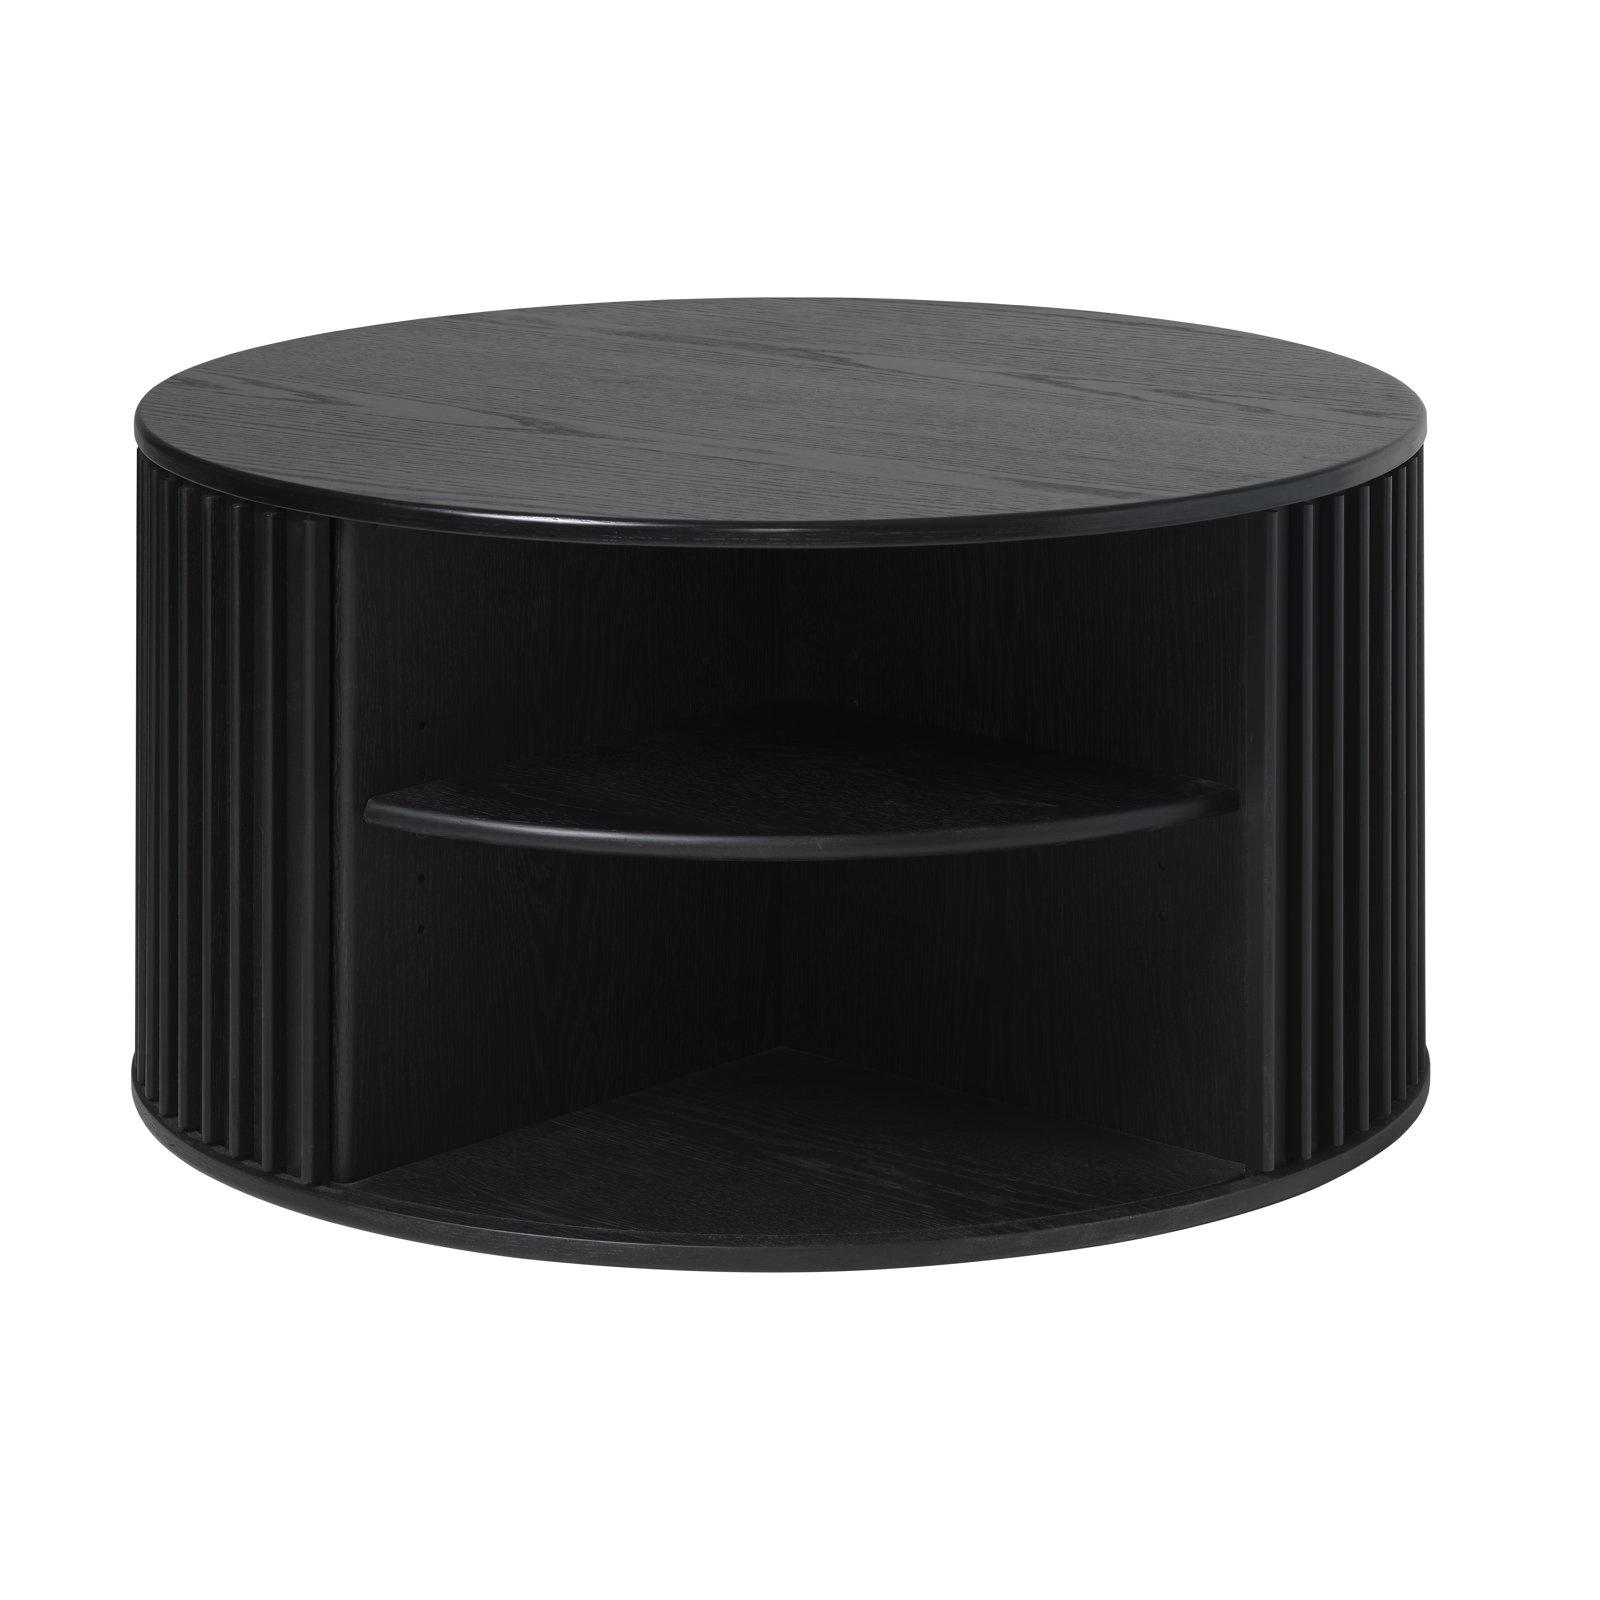obstacle: (135, 299, 1426, 1267)
